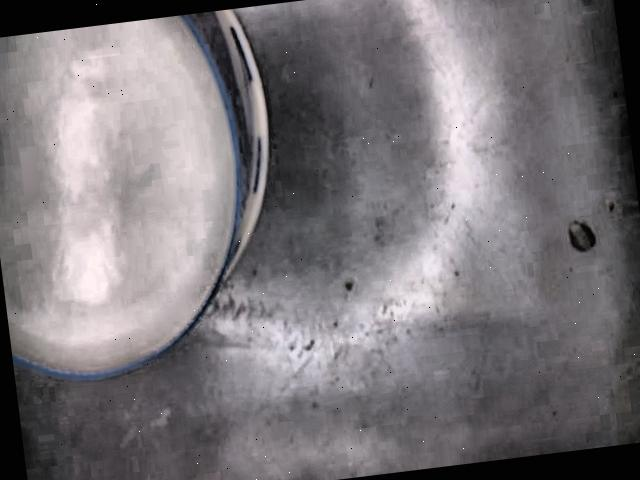Paper: (0, 9, 270, 383)
